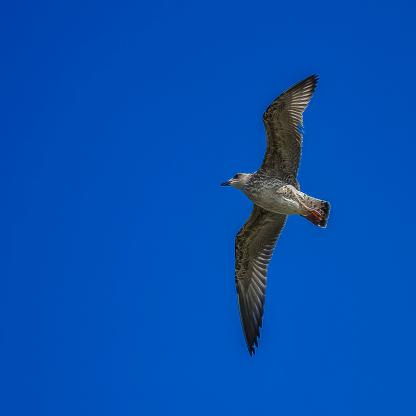bird: (221, 75, 330, 360)
